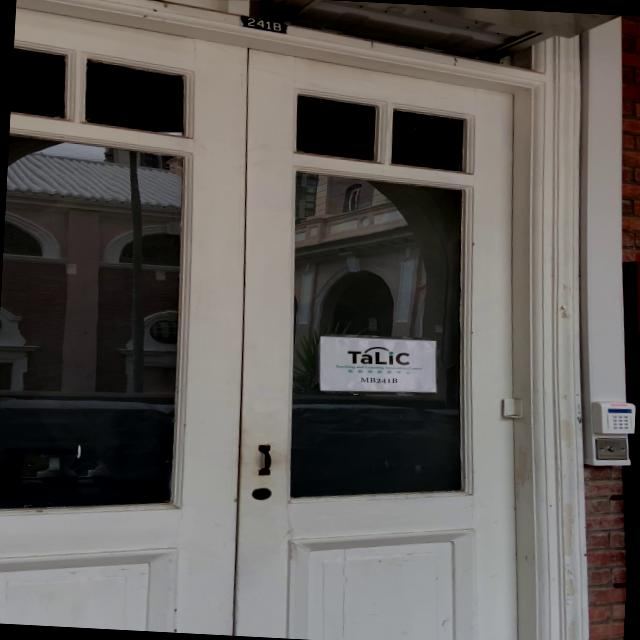room241b: (232, 12, 288, 35)
